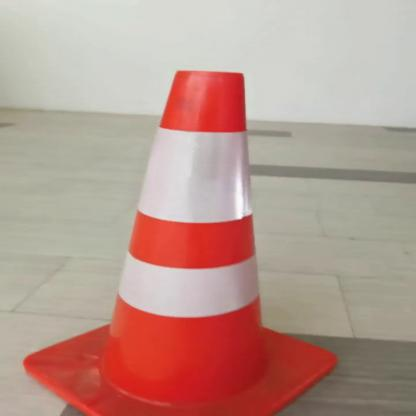cone: (16, 61, 354, 416)
